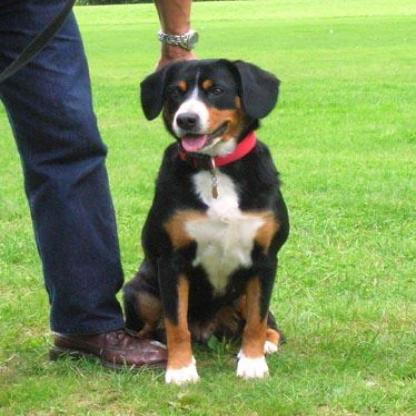EntleBucher: (116, 52, 288, 386)
